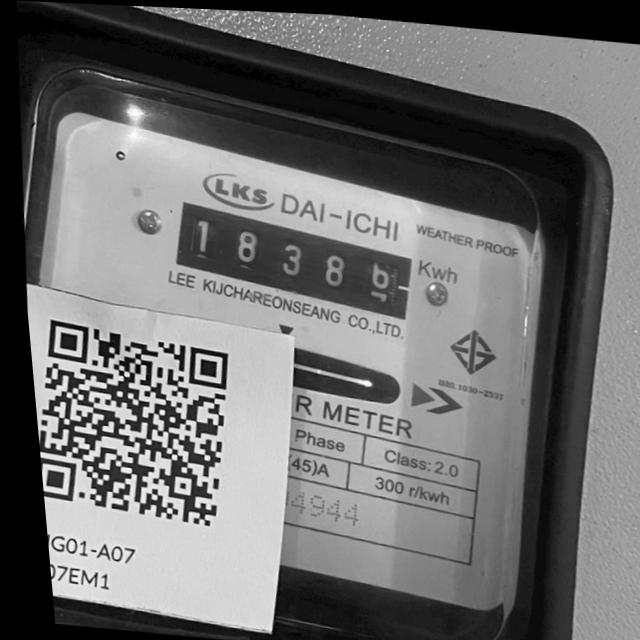qr_code: (37, 312, 234, 532)
